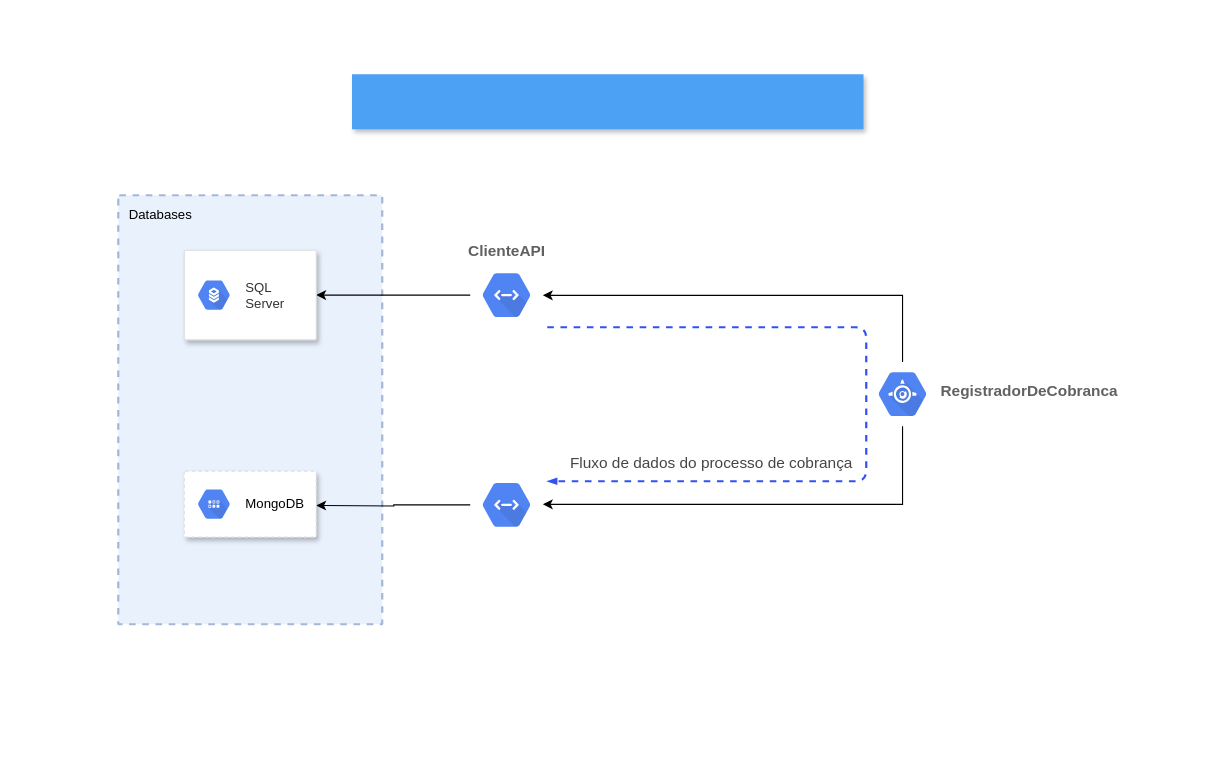
Some shapes in this 1214 by 763 pixel diagram are drawn without their labels. The centre of each missing label's shape, as x and y in pixels:
"CobrancaAPI" goes at (506,504).
"Processamento de Cobranca - Microservice architecture" goes at (608,102).
